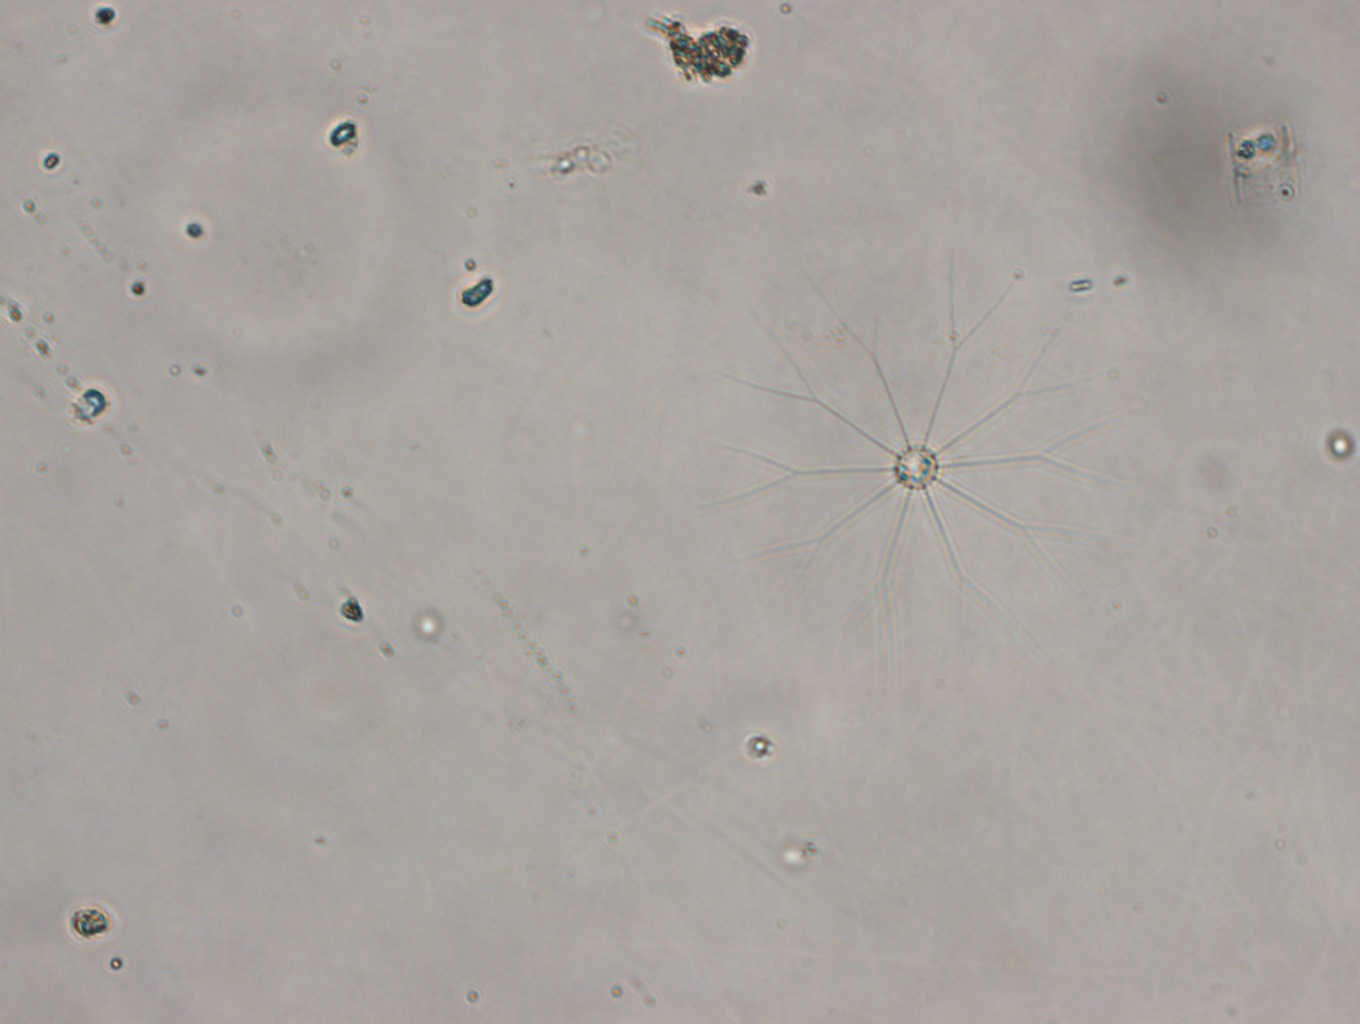bacteriastrum: (704, 242, 1133, 655)
